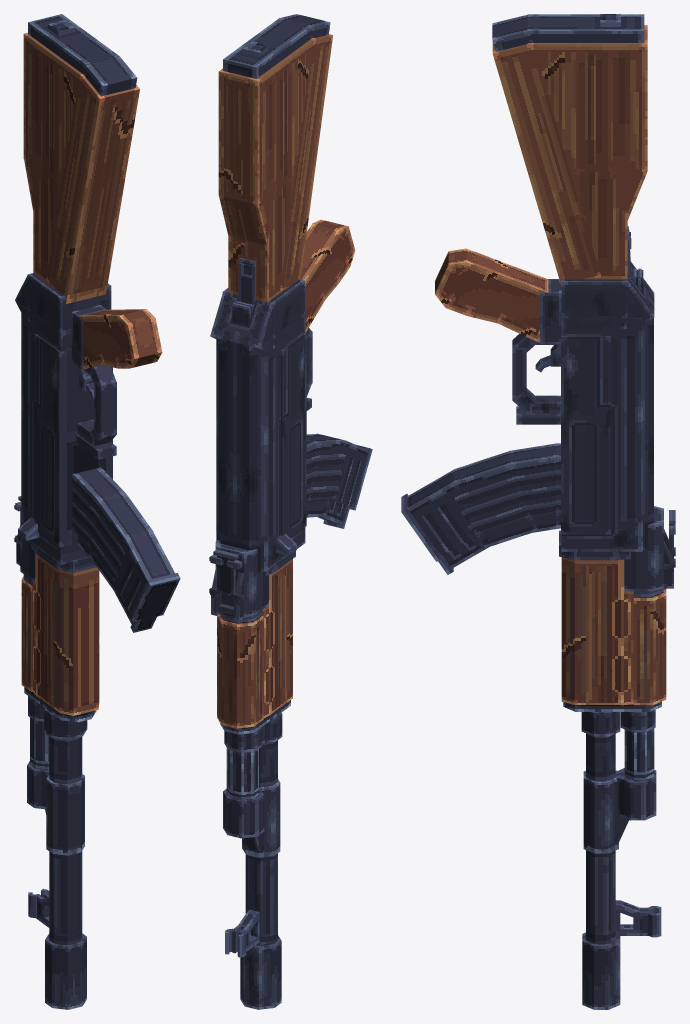
The picture shows the model from 3 angles, left to right: view 1: azimuth 30°, elevation 25°; view 2: azimuth 150°, elevation 25°; view 3: azimuth 270°, elevation 25°; orthographic projection. The views are drawn at different scales.
Visible parts, largest first — view 1: cube (×37); view 2: cube (×42); view 3: cube (×34).
Part boxes in pixels (x1,y1,x2,y2): cube (×37): (20,14,180,1009); cube (×42): (210,14,367,1009); cube (×34): (408,14,666,1009).
Size of the model in its own units: 0.1491 by 2.12 by 0.5363.
Materials: 1 (1 with a texture image).
